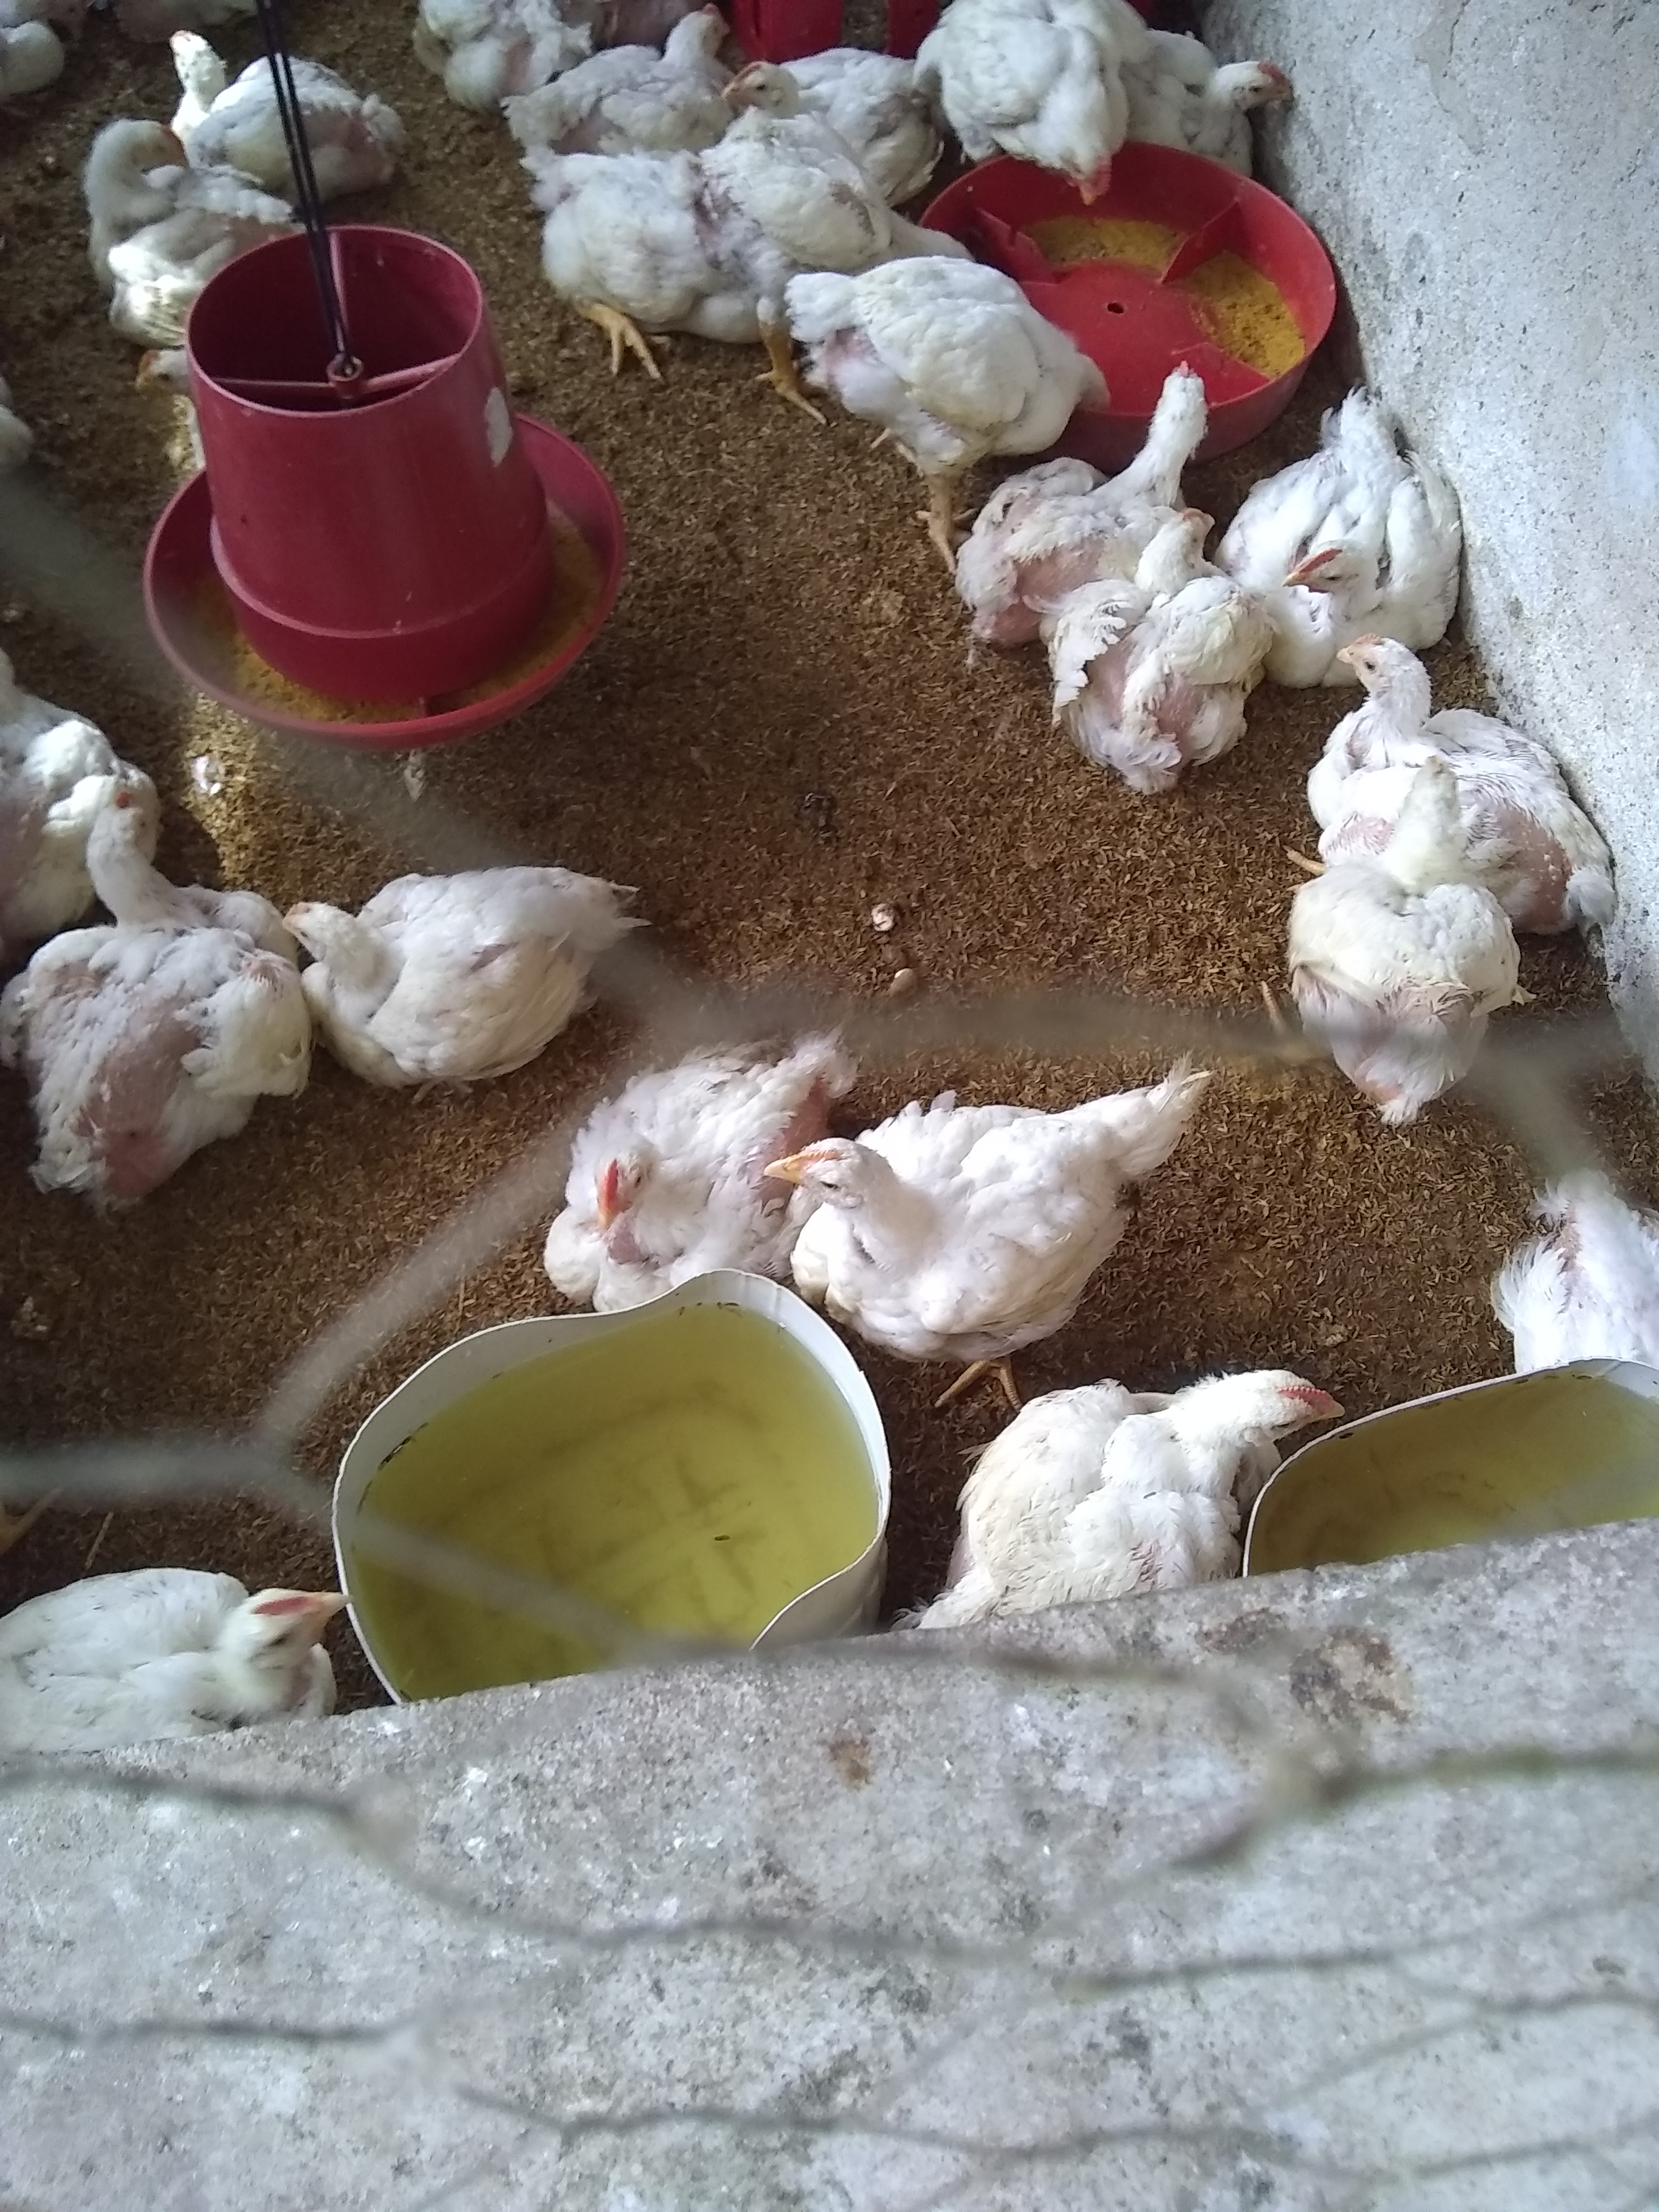Pollos: (0, 789, 305, 1214), (796, 1049, 1234, 1331), (915, 1378, 1335, 1613), (286, 831, 643, 1085), (0, 1536, 345, 1775), (1297, 758, 1516, 1076), (535, 1055, 774, 1305), (1056, 502, 1267, 775), (1326, 629, 1601, 834), (789, 251, 1091, 435), (929, 0, 1154, 193), (171, 24, 406, 181), (1284, 392, 1436, 622), (713, 42, 927, 193), (519, 2, 734, 146), (82, 117, 284, 249), (1168, 30, 1304, 155), (1133, 361, 1229, 502)
